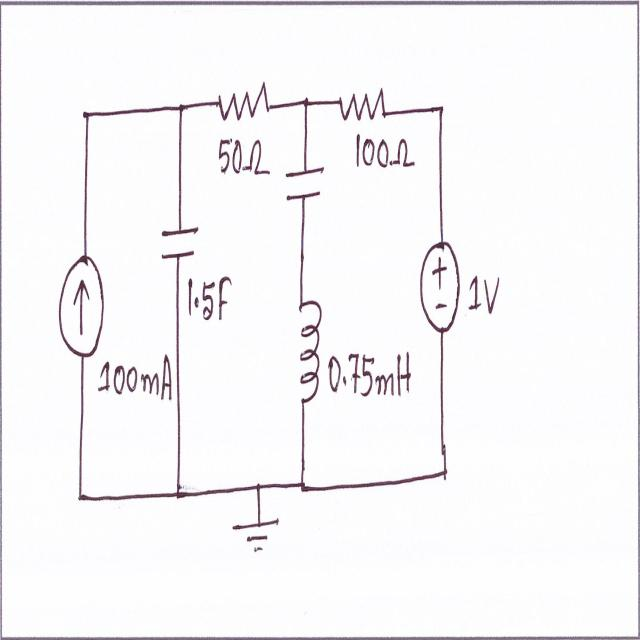capacitor: (158, 209, 200, 272), (283, 157, 325, 215)
current_source: (55, 235, 106, 370)
ground: (225, 507, 288, 563)
inductor: (294, 288, 324, 416)
resistor: (215, 72, 272, 128), (336, 81, 390, 129)
voltage_source: (416, 230, 463, 339)
